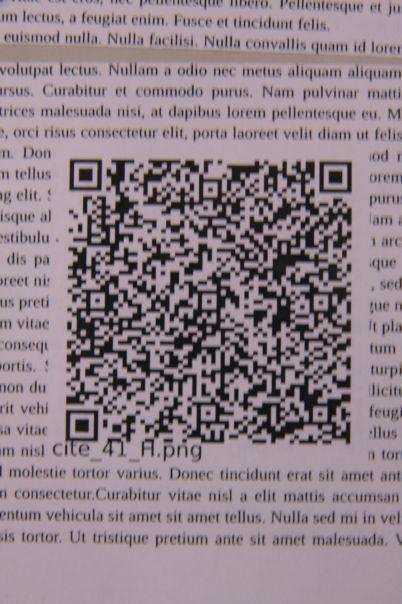Finder pattern: (315, 156, 362, 200), (59, 405, 106, 448), (68, 155, 109, 195)
